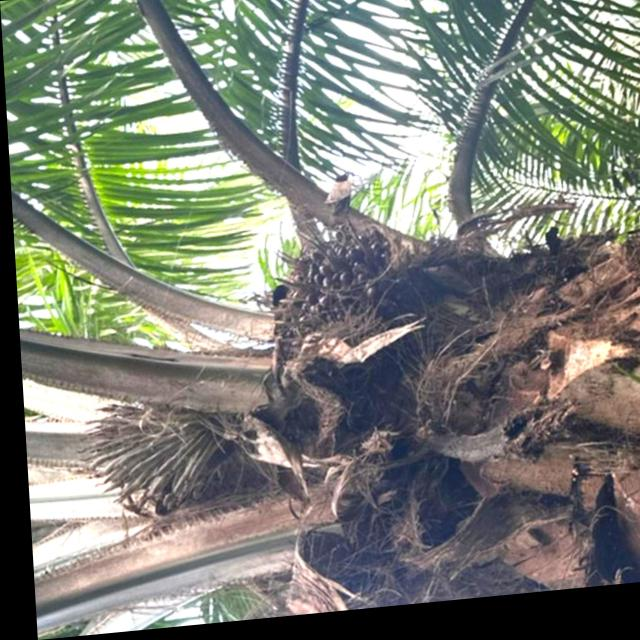ripe: (263, 230, 391, 357)
